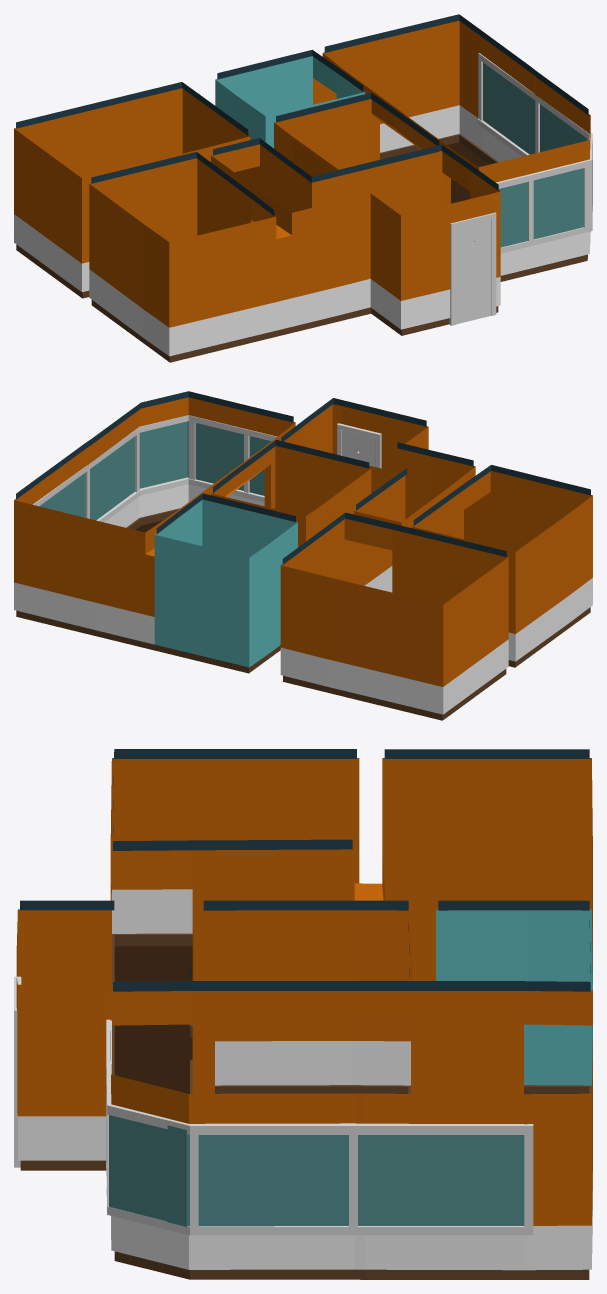
File: Casa11.FBX
3 views of the same model, one above another, from view 1: azimuth 30°, elevation 25°; view 2: azimuth 150°, elevation 25°; view 3: azimuth 270°, elevation 25° (orthographic). The views are drawn at different scales.
Visible parts, largest first — view 1: Plane001, Object001, Object003, Box002, Box001; view 2: Plane001, Object001, Object003, Box002, Box001; view 3: Plane001, Object001, Object003, Box001.
Part boxes in pixels (left/top/right/bottom): Plane001: left=14, top=14, right=590, bottom=362; Object001: left=483, top=62, right=592, bottom=247; Object003: left=477, top=53, right=592, bottom=253; Box002: left=456, top=219, right=490, bottom=324; Box001: left=449, top=212, right=496, bottom=325; Plane001: left=14, top=391, right=592, bottom=720; Object001: left=39, top=421, right=271, bottom=520; Object003: left=33, top=415, right=277, bottom=522; Box002: left=342, top=429, right=375, bottom=466; Box001: left=337, top=423, right=381, bottom=468; Plane001: left=16, top=749, right=592, bottom=1279; Object001: left=109, top=1115, right=524, bottom=1226; Object003: left=106, top=1019, right=533, bottom=1235; Box001: left=14, top=976, right=21, bottom=1167.
Bounding box in the file's own units: 596 × 162 × 431.
